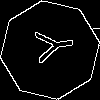Y: (25, 25, 76, 66)
